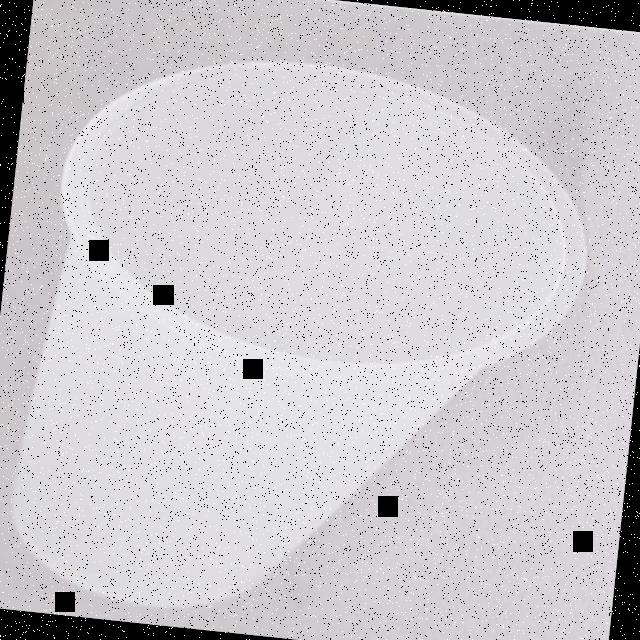plastic_box: (0, 36, 608, 640)
